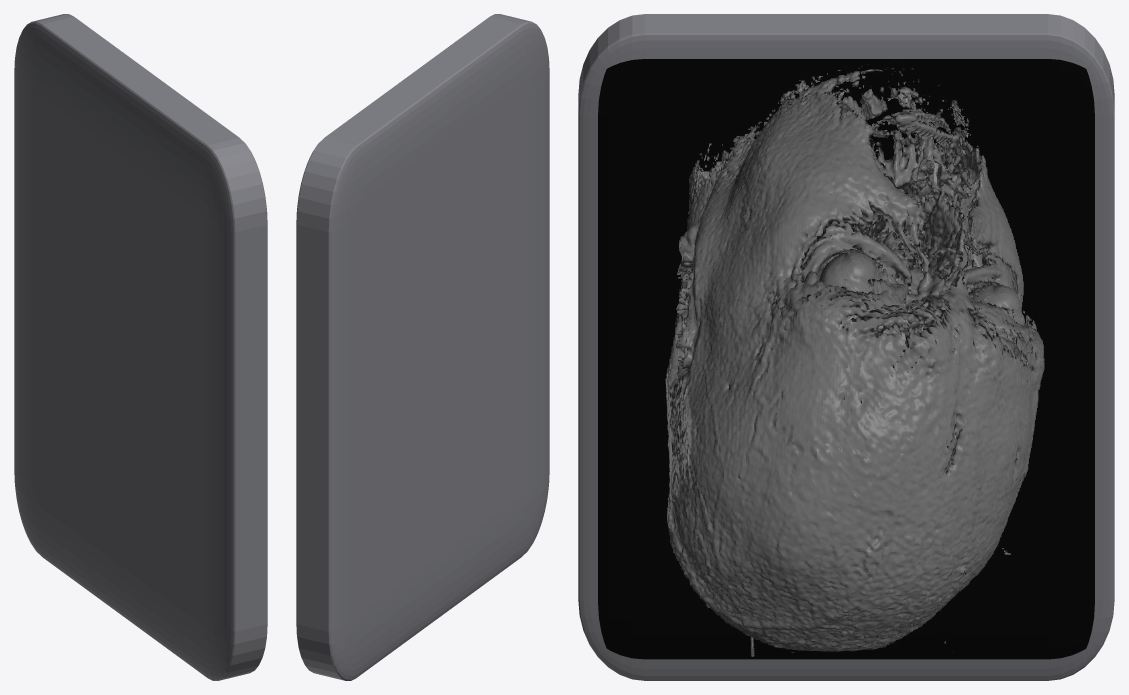
File: tablet.glb
3 renders of one model, left to right at view 1: azimuth 30°, elevation 25°; view 2: azimuth 150°, elevation 25°; view 3: azimuth 270°, elevation 25°, orthographic. The views are drawn at different scales.
Parts seen in each view (by area): view 1: Cube; view 2: Cube; view 3: Cube.
Boxes of the visible parts, x1=… form: Cube: x1=14, y1=14, x2=267, y2=680; Cube: x1=296, y1=14, x2=549, y2=680; Cube: x1=578, y1=14, x2=1114, y2=680.
Bounding box in the file's own units: 0.2 × 2.4 × 1.8.
2 materials, 1 textured.
